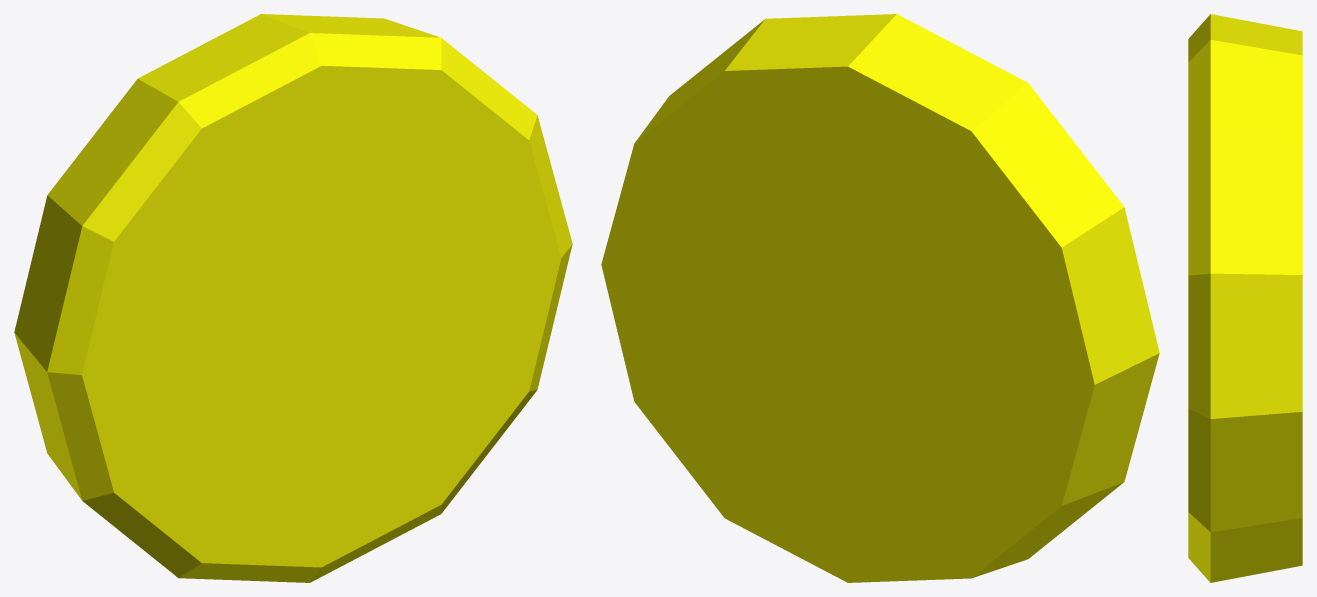
File: kaykit-target.glb
3 views of the same model, side by side, from view 1: azimuth 30°, elevation 25°; view 2: azimuth 150°, elevation 25°; view 3: azimuth 270°, elevation 25° (orthographic). The views are drawn at different scales.
Visible parts, largest first — view 1: target; view 2: target; view 3: target.
Part boxes in pixels (bbox=[...]): target: bbox=[14, 14, 572, 582]; target: bbox=[601, 14, 1159, 582]; target: bbox=[1188, 14, 1302, 582].
Size of the model in its own units: 1 by 1 by 0.2.
